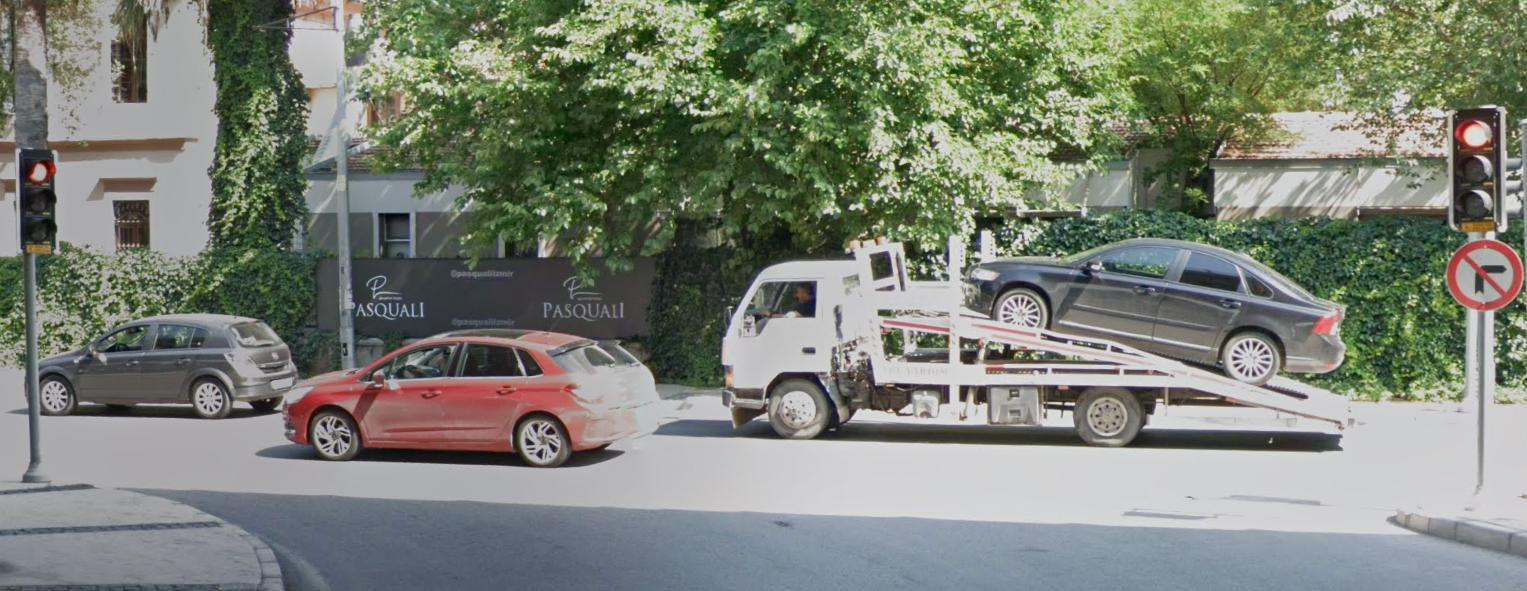redlight: (1450, 113, 1508, 222), (22, 155, 60, 246)
